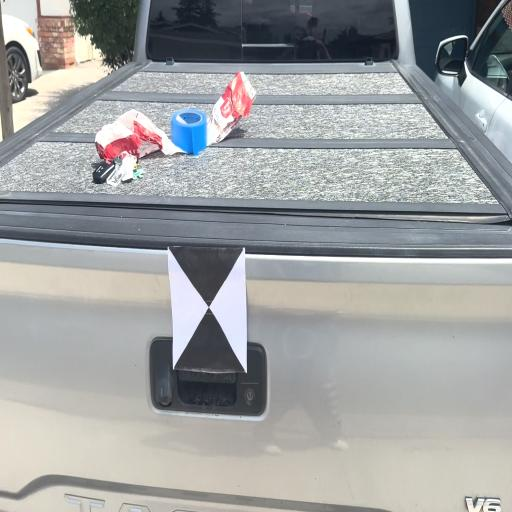target: (168, 248, 247, 371)
